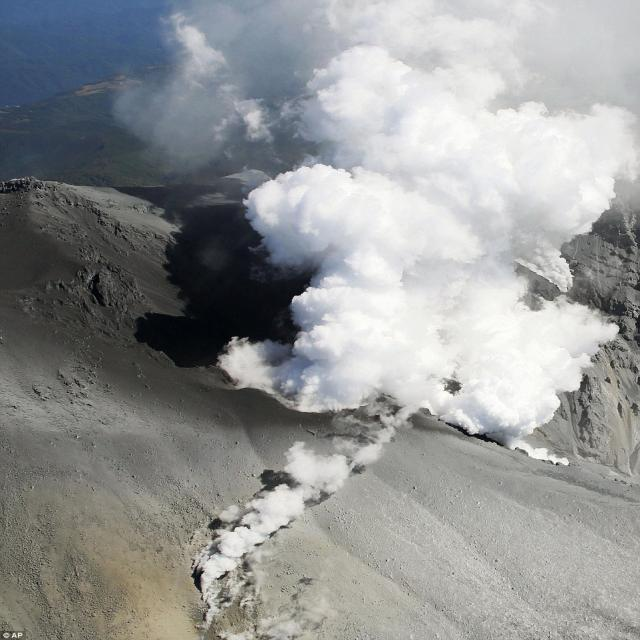Smoke: (153, 0, 640, 470), (187, 385, 434, 618)
